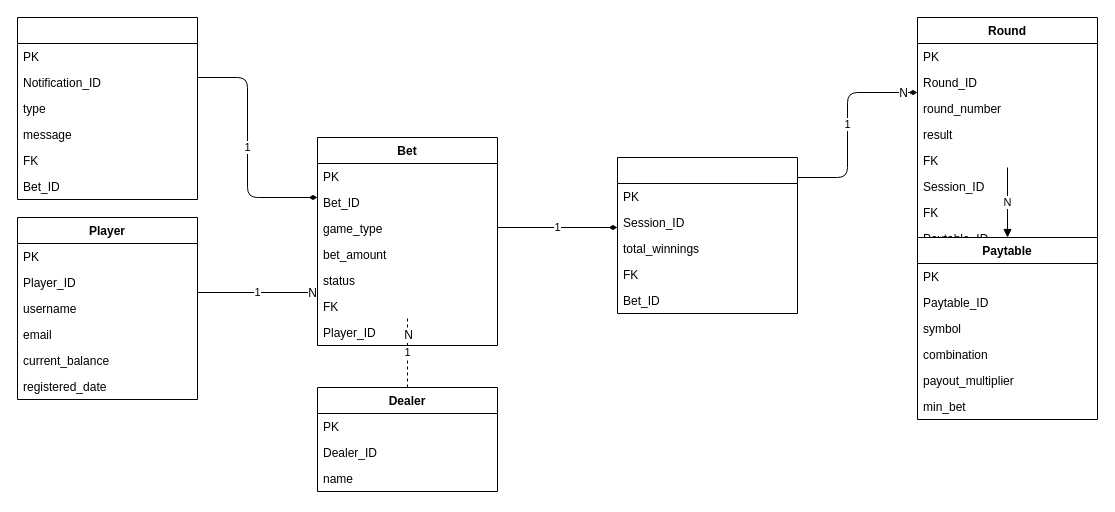
The diagram is 1115 pixels wide and 512 high, and some of its shapes have lost their labels. The shapes that lost their labels are listed below. From the top down, each one's box as (x1, y1, x2, y2) in pixels, then its label:
(16, 16, 198, 200): PlayerNotification
(616, 156, 798, 314): GameSession
